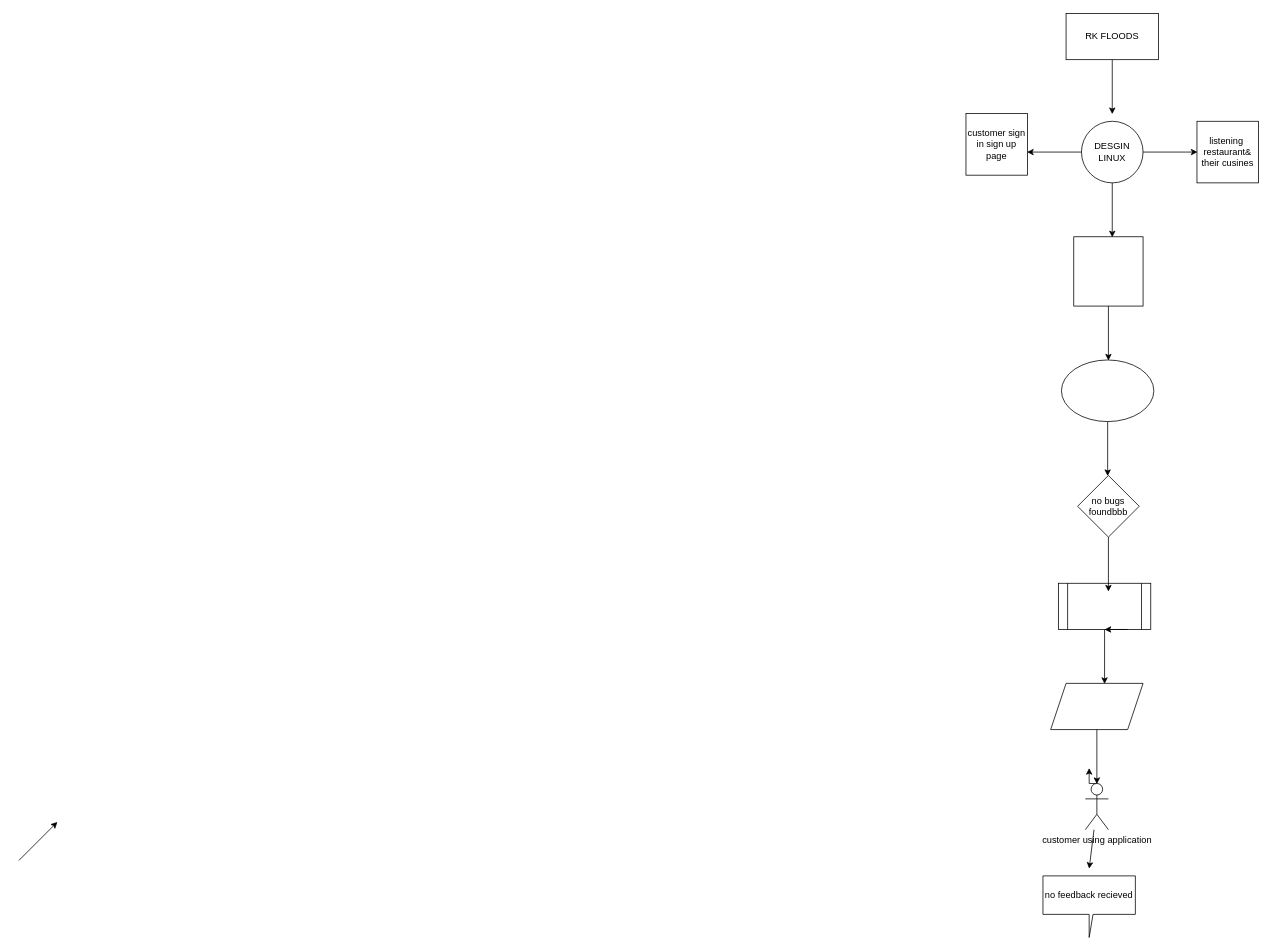
The diagram is 1272 pixels wide and 951 high, and some of its shapes have lost their labels. Each missing label, with the box of its shape:
checkout pages&rts: (1073, 236, 1143, 306)
compiling cpde into apk: (1061, 359, 1154, 422)
pushing apk to playstore: (1050, 683, 1143, 730)
writing permisions for deployment: (1058, 583, 1151, 629)
